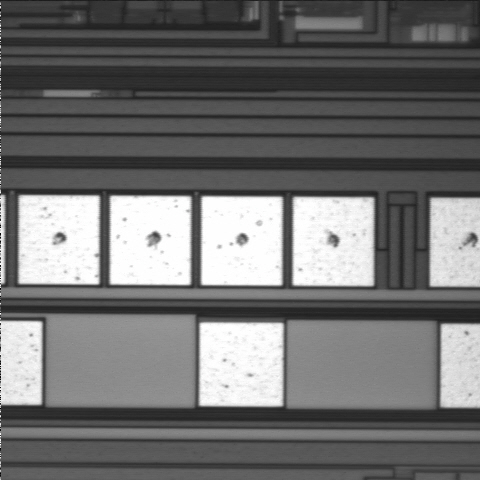pad: (201, 196, 283, 286), (19, 195, 100, 284), (110, 196, 191, 285), (293, 197, 374, 286), (199, 322, 283, 406)
